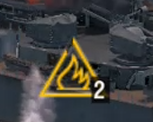2fire: (31, 65, 111, 103)
